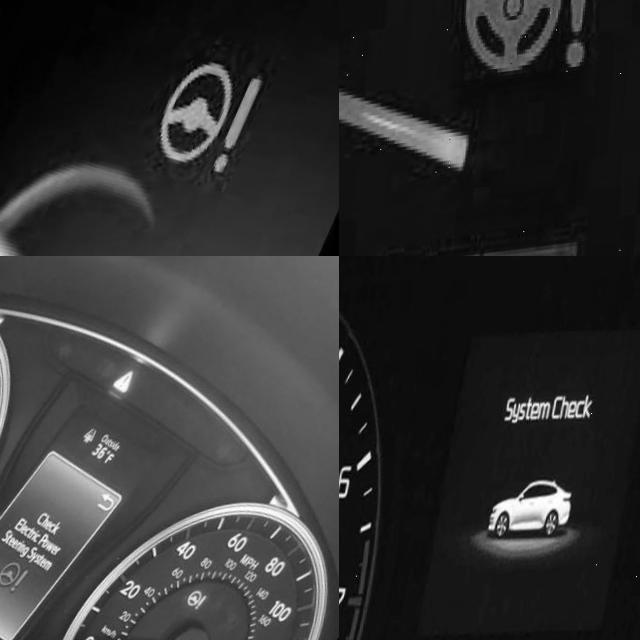Electronic Power Steering: (159, 64, 269, 198), (0, 561, 32, 602), (188, 597, 215, 626)
Electronic Power Steering Warning: (462, 0, 598, 90)
